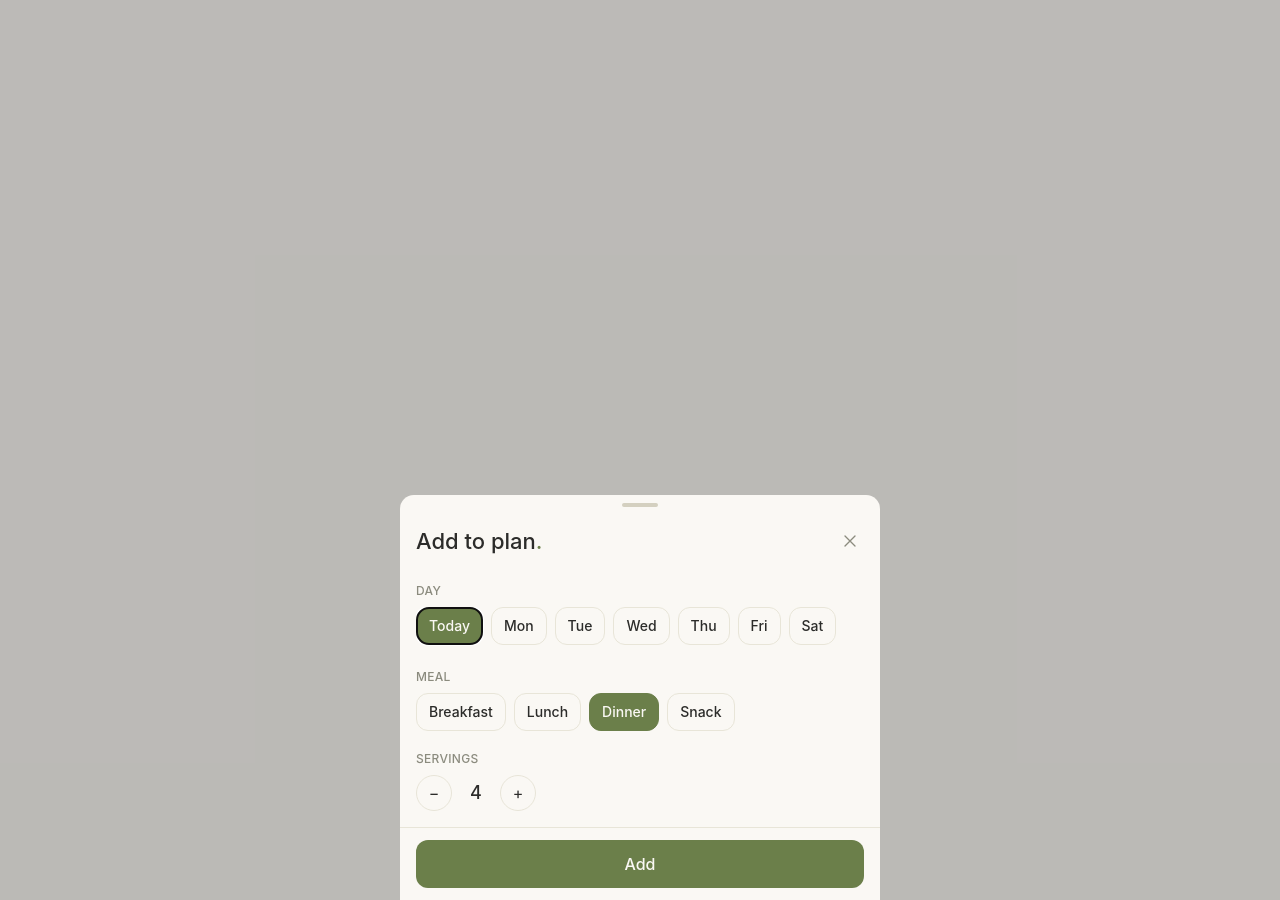
Test: AddToPlanSheet › decrements servings when − button is clicked
Click the button named "decrease servings" at (434, 793), box left=416, top=775, right=452, bottom=811
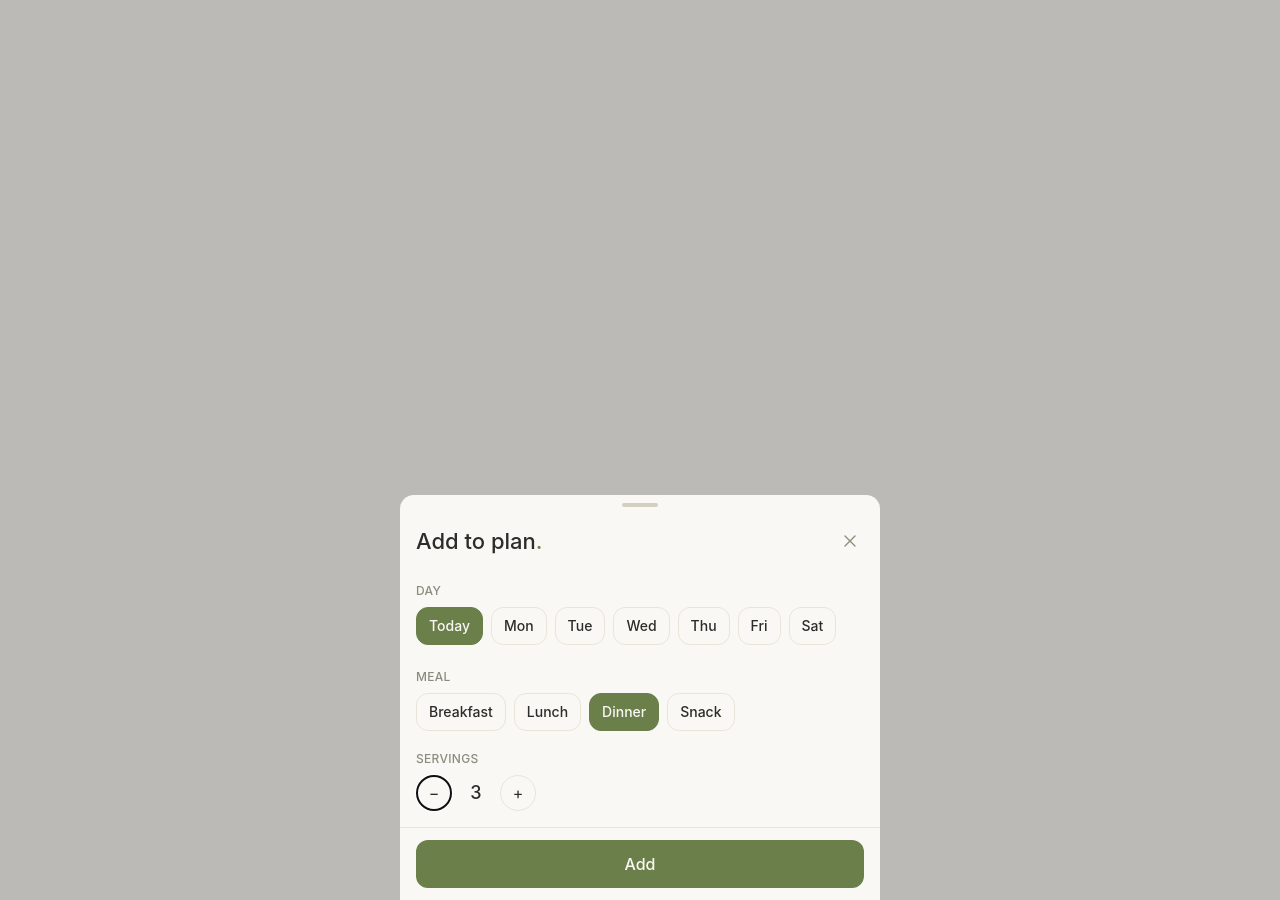
Expected: the text "3" is shown, left=470, top=782, right=482, bottom=803
